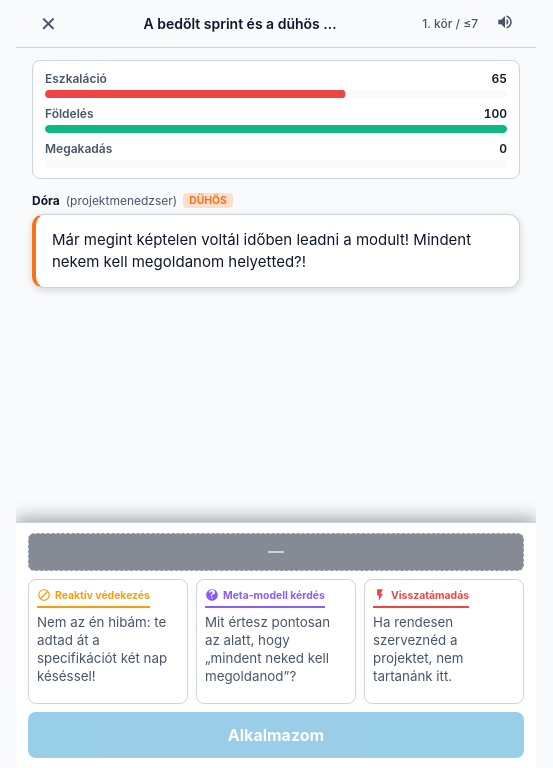
Test: GameScreen component (Phase 5 UI) › cancels preview on "Mégse" button (SBE-CRD-006)
Click the button that starts with "Reaktív védekezés": (108,642) 28,579 -> 188,704
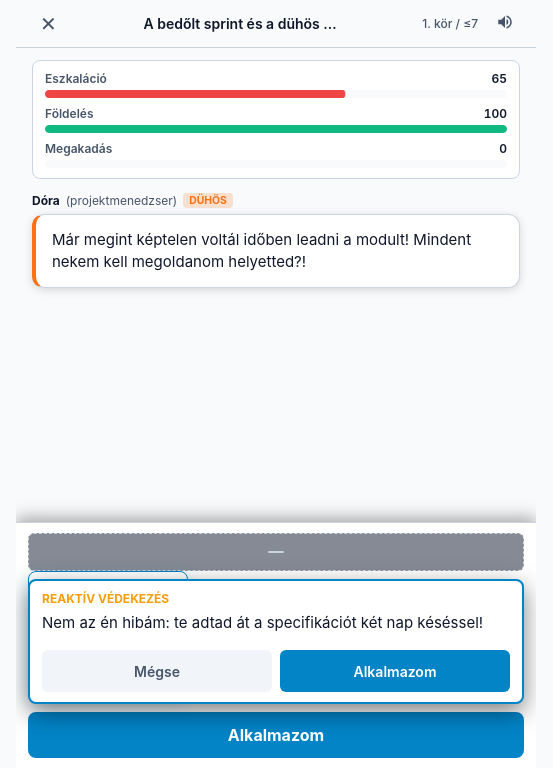
Result: the element with test id "card-preview" is shown at 28,579 -> 524,704
Click the button with test id "preview-cancel-btn": (157,671) 42,650 -> 272,692
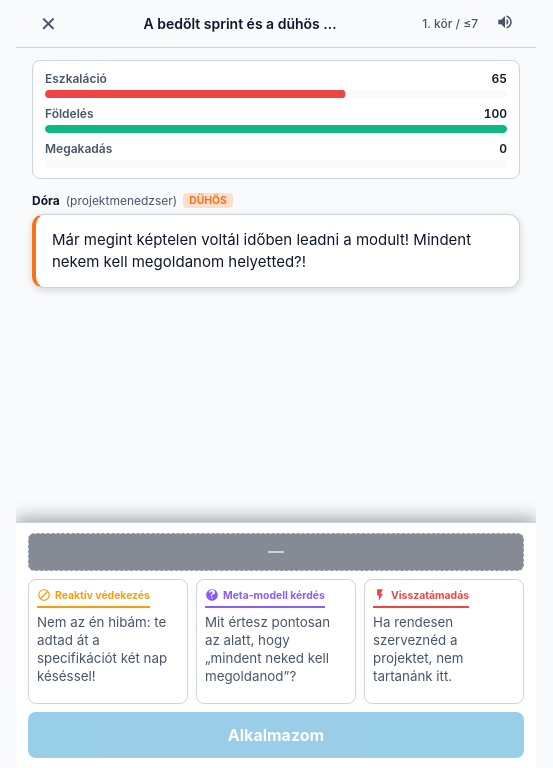
Result: the element with test id "card-preview" is gone
